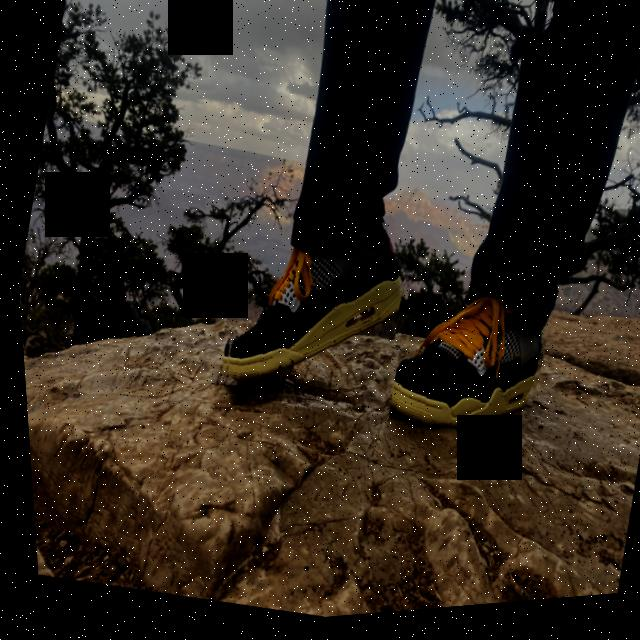shoe: (201, 189, 419, 424), (374, 272, 558, 458)
